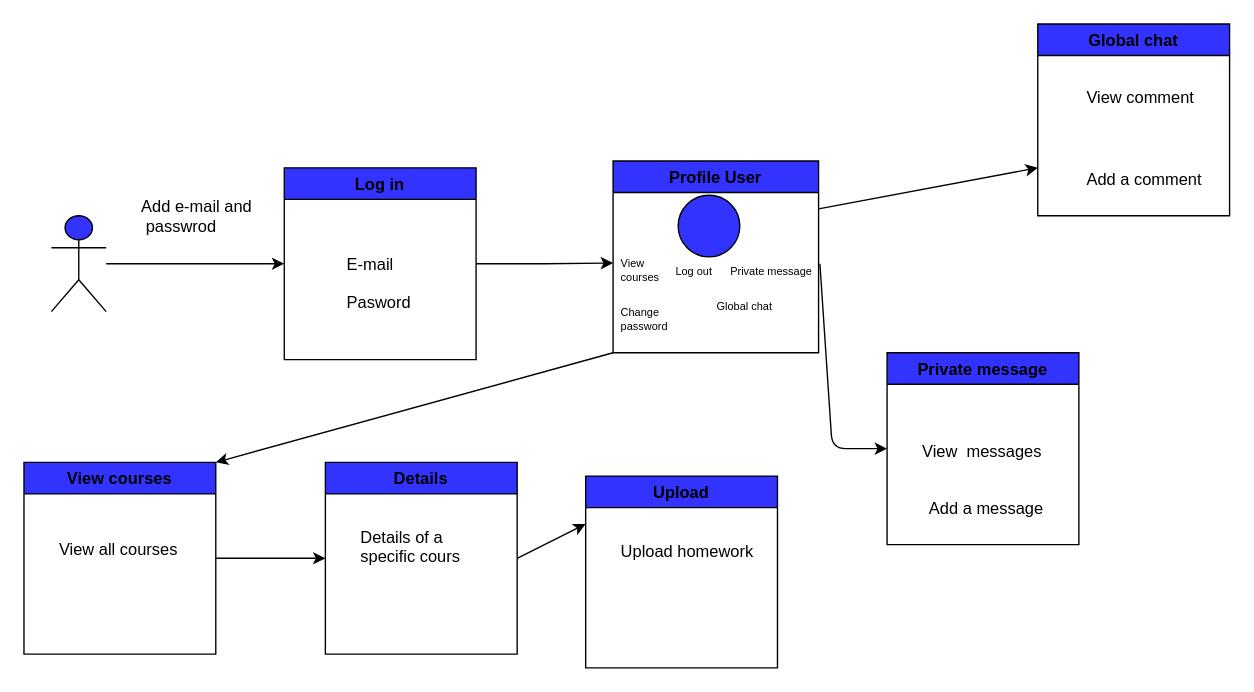
Image size: 1254x692. Some labels were removed from this diagram. Here are the shapes that lost their labels. From the top down, the centre of each, then its label:
the point at 708,225: Picture profle
the point at 78,263: Actor
